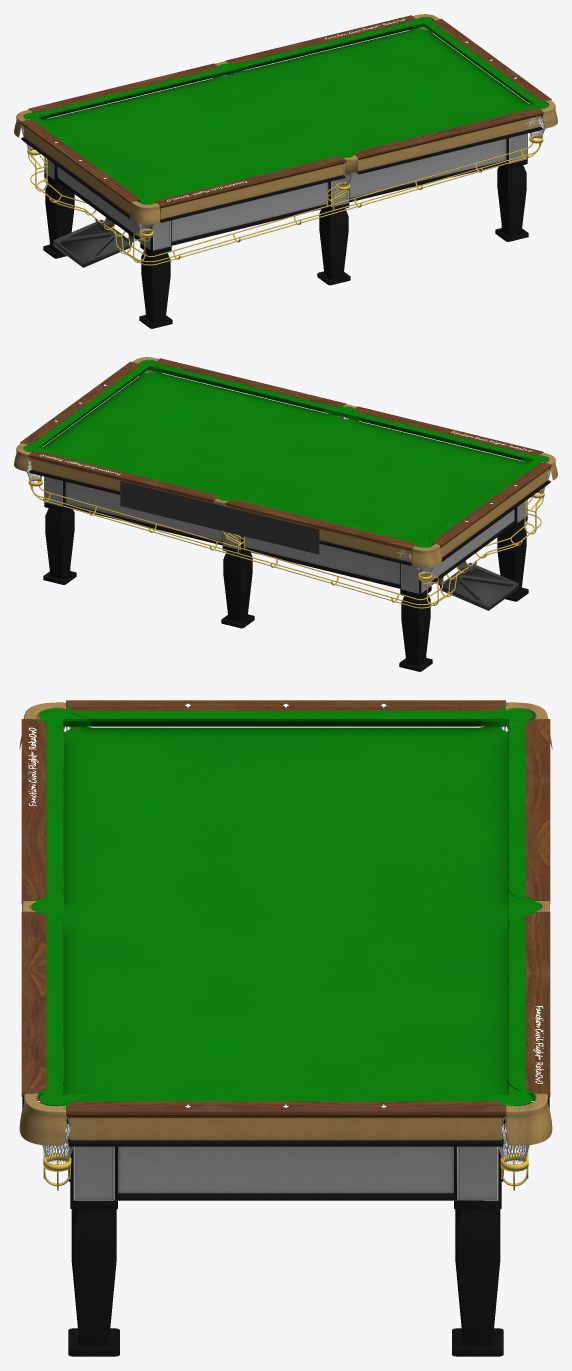
The model's file is 中式台球桌 新桌.fbx.
The picture shows the model from 3 angles, top to bottom: view 1: azimuth 30°, elevation 25°; view 2: azimuth 150°, elevation 25°; view 3: azimuth 270°, elevation 25°; orthographic projection. The views are drawn at different scales.
Parts seen in each view (by area): view 1: table, 集球器, 角袋口, .4BALL_FILL, 收集网; view 2: table, 集球器, scorecard, 角袋口, .4BALL_FILL; view 3: table, 角袋口, .4BALL_FILL, 集球器, 收集网.
Boxes of the visible parts, x1,y1,x2,y2 form: table: (20,15,551,328); 集球器: (27,134,543,267); 角袋口: (14,14,557,224); .4BALL_FILL: (24,17,547,204); 收集网: (21,25,545,233); table: (20,358,551,671); 集球器: (28,477,544,610); scorecard: (120,481,319,554); 角袋口: (14,357,557,567); .4BALL_FILL: (24,360,547,547); table: (21,700,550,1356); 角袋口: (19,702,552,1145); .4BALL_FILL: (31,708,540,1105); 集球器: (43,1127,528,1190); 收集网: (41,726,530,1163).
Size of what is drawn, in the model's own units: 2.84 by 0.8427 by 1.52.
